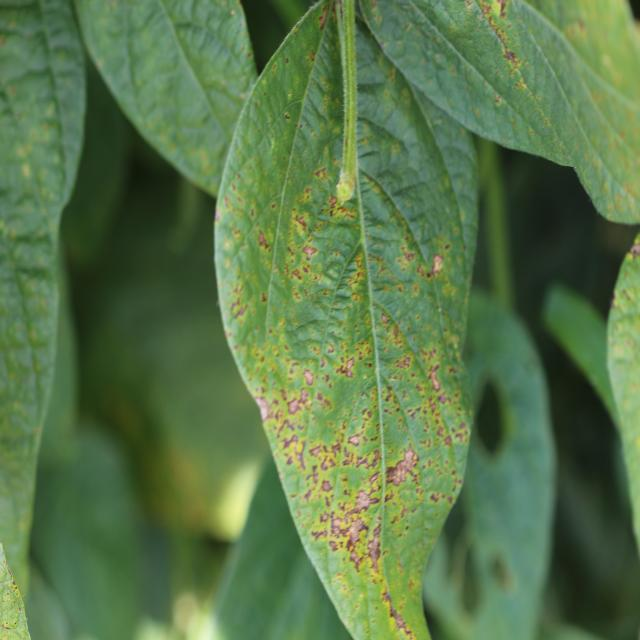Bacterial_Blight: (5, 255, 55, 350), (334, 480, 387, 567), (601, 173, 640, 220), (388, 446, 419, 484), (386, 598, 413, 635), (489, 553, 514, 590), (611, 327, 636, 363), (416, 255, 441, 281), (286, 389, 310, 416), (335, 352, 355, 381), (326, 194, 349, 219), (281, 431, 301, 454), (254, 394, 269, 422), (450, 422, 468, 444), (231, 299, 247, 321), (393, 353, 411, 371), (318, 4, 330, 30), (356, 453, 374, 470), (301, 244, 318, 261), (502, 48, 518, 66), (618, 287, 634, 305), (429, 370, 442, 392), (330, 515, 343, 537), (311, 526, 327, 542), (258, 229, 270, 250), (294, 214, 308, 231), (303, 368, 315, 387), (513, 76, 527, 92), (309, 444, 324, 458), (496, 0, 508, 17), (348, 433, 362, 447), (321, 478, 334, 493), (11, 582, 22, 599), (290, 268, 303, 282), (302, 488, 314, 503), (633, 237, 640, 260), (314, 167, 327, 179), (289, 363, 299, 378), (430, 491, 442, 503), (22, 163, 31, 178), (1, 621, 13, 630), (494, 95, 501, 105), (327, 344, 334, 354), (343, 487, 350, 497), (261, 293, 267, 303), (230, 9, 236, 17), (284, 113, 290, 120), (17, 606, 22, 613), (317, 277, 322, 284), (12, 579, 17, 585), (285, 57, 289, 64), (288, 92, 292, 99)
Soybean: (215, 1, 473, 638)
